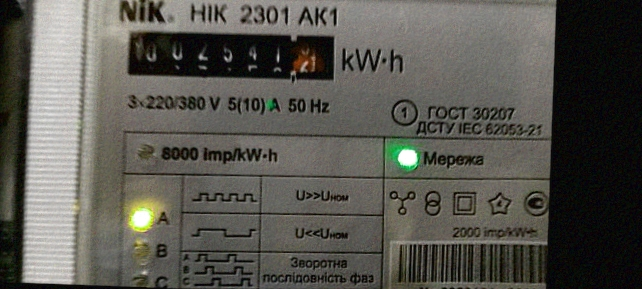0: (142, 37, 161, 64), (170, 35, 185, 63)
1: (270, 37, 284, 64)
2: (194, 36, 211, 62)
4: (246, 37, 260, 61)
5: (219, 36, 238, 65)
6: (297, 55, 312, 74)
screen: (115, 14, 350, 94)
